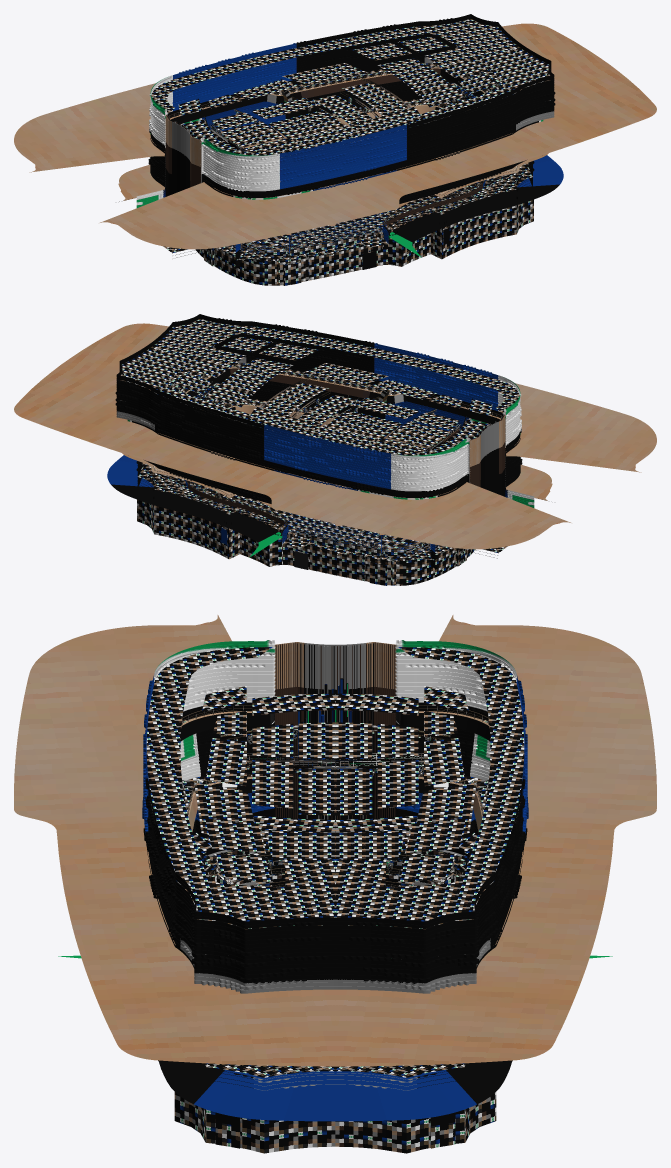
3 views of the same model, one above another, from view 1: azimuth 30°, elevation 25°; view 2: azimuth 150°, elevation 25°; view 3: azimuth 270°, elevation 25° (orthographic). The views are drawn at different scales.
Parts seen in each view (by area): view 1: barrier.001, walls.003, ceiling-panels, walls.007, barrier, walls.001, option best, Plane.032, floor, floor.003, barrier.002, choir.002 (+4 smaller); view 2: barrier.001, walls.003, ceiling-panels, walls.007, barrier, walls.001, option best, Plane.032, floor, floor.003, barrier.002, choir.002 (+4 smaller); view 3: barrier.001, ceiling-panels, walls.003, barrier, walls.007, Plane.032, walls.001, organs-background-sides, option best, floor.003, choir.002, barrier.002 (+1 smaller).
Part boxes in pixels (box(x1,y1,x2,y2)): barrier.001: box(14, 23, 656, 249); walls.003: box(149, 14, 555, 198); ceiling-panels: box(151, 18, 553, 159); walls.007: box(195, 199, 533, 285); barrier: box(382, 155, 563, 257); walls.001: box(148, 77, 543, 203); option best: box(136, 125, 534, 269); Plane.032: box(165, 115, 201, 196); floor: box(275, 181, 480, 278); floor.003: box(386, 162, 532, 232); barrier.002: box(118, 104, 548, 201); choir.002: box(163, 231, 388, 260); barrier.001: box(14, 323, 656, 549); walls.003: box(115, 314, 521, 498); ceiling-panels: box(117, 318, 519, 459); walls.007: box(137, 499, 475, 585); barrier: box(107, 455, 288, 557); walls.001: box(127, 377, 522, 503); option best: box(136, 425, 534, 569); Plane.032: box(469, 415, 505, 496); floor: box(190, 481, 395, 578); floor.003: box(138, 462, 284, 532); barrier.002: box(122, 404, 552, 500); choir.002: box(282, 531, 507, 560); barrier.001: box(14, 615, 656, 1066); ceiling-panels: box(146, 647, 524, 929); walls.003: box(143, 640, 527, 993); barrier: box(58, 955, 612, 1121); walls.007: box(158, 1060, 512, 1153); Plane.032: box(274, 642, 396, 819); walls.001: box(142, 714, 528, 968); organs-background-sides: box(275, 642, 395, 818); option best: box(187, 793, 483, 1090); floor.003: box(205, 1063, 465, 1077); choir.002: box(193, 832, 476, 882); barrier.002: box(188, 777, 482, 832).
Size of the model in its own units: 78.67 by 19.96 by 47.27.
1 material, 1 textured.
